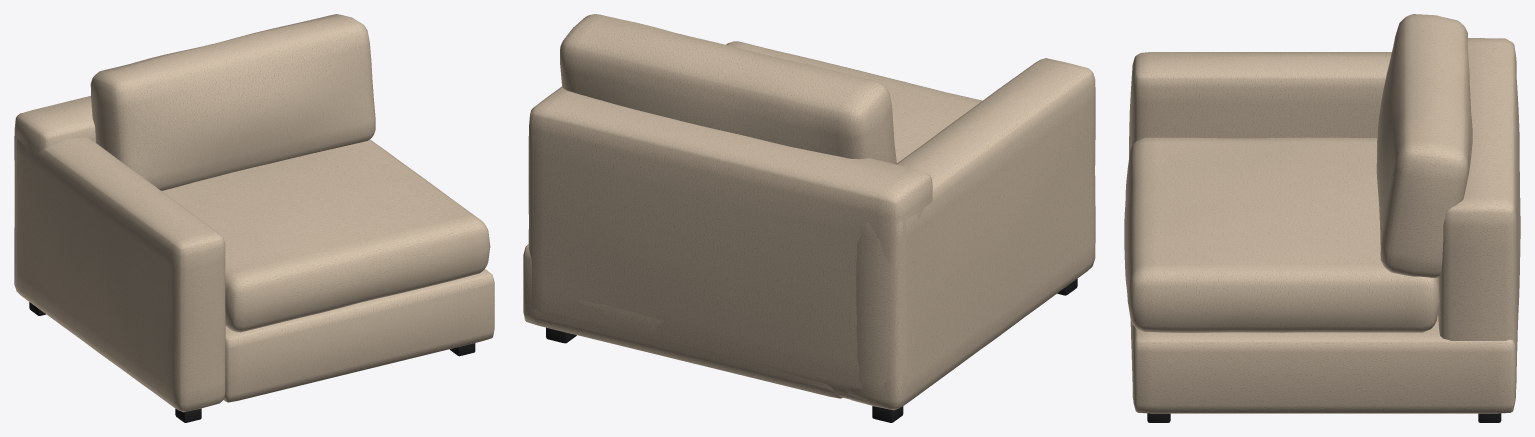
File: sofa_modular_brazo_izq.glb
3 renders of one model, left to right at view 1: azimuth 30°, elevation 25°; view 2: azimuth 150°, elevation 25°; view 3: azimuth 270°, elevation 25°, orthographic. The views are drawn at different scales.
Parts seen in each view (by area): view 1: sofa_modular_brazo_izq; view 2: sofa_modular_brazo_izq; view 3: sofa_modular_brazo_izq.
Boxes of the visible parts, x1,y1,x2,y2 form: sofa_modular_brazo_izq: (14,14,494,422); sofa_modular_brazo_izq: (523,14,1095,422); sofa_modular_brazo_izq: (1124,14,1520,422).
Size of the model in its own units: 1.09 by 0.8066 by 1.03.
Materials: 2 (1 with a texture image).
